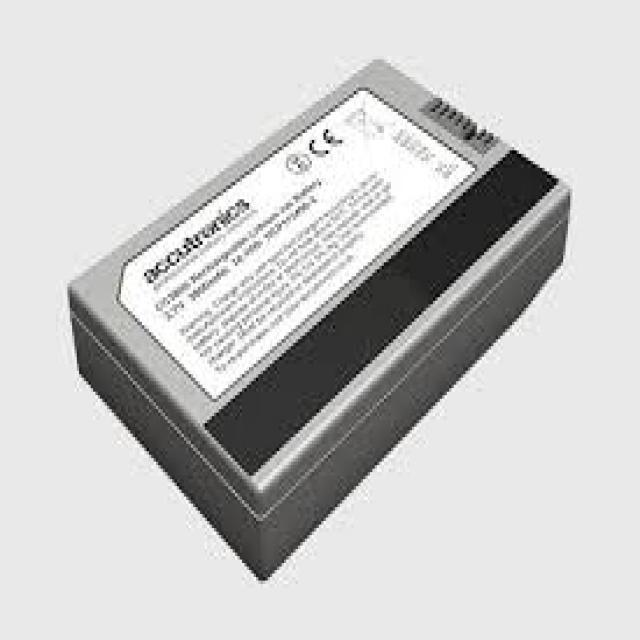battery: (71, 52, 571, 580)
